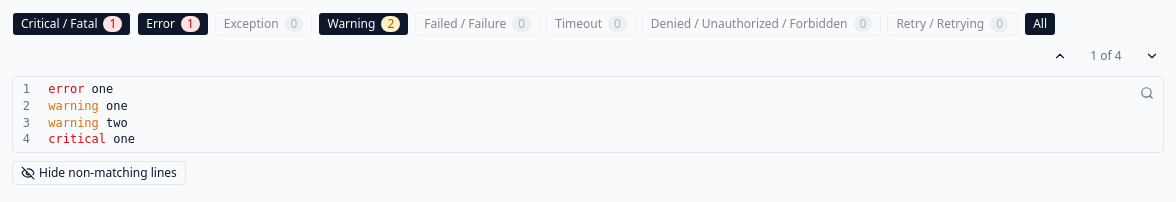
LogViewerWidget › steps through the pooled matches of every toggled-on pattern together, wrapping around
Check: the text "1 of 4" is shown, box 1090,47 -> 1122,64
Step 1. Click the button named "Next match" → (1152, 56), box 1140,44 -> 1164,68
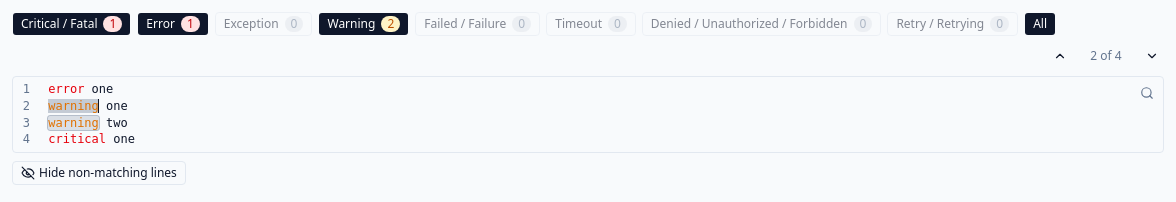
Check: the text "2 of 4" is shown, box 1090,47 -> 1122,64
Step 2. Click the button named "Next match" → (1152, 56), box 1140,44 -> 1164,68
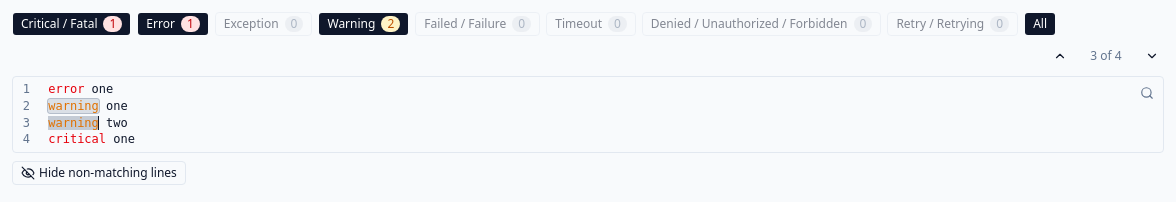
Check: the text "3 of 4" is shown, box 1090,47 -> 1122,64
Step 3. Click the button named "Next match" → (1152, 56), box 1140,44 -> 1164,68
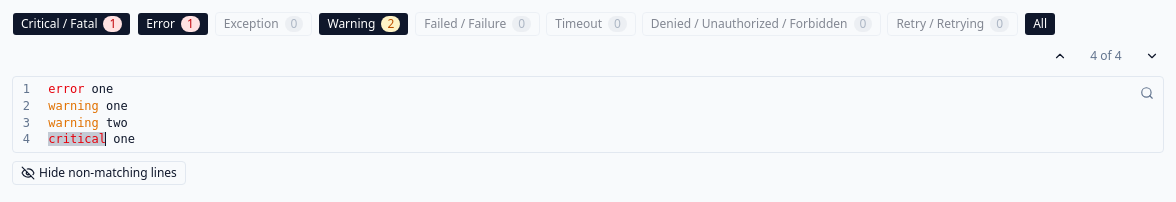
Check: the text "4 of 4" is shown, box 1090,47 -> 1122,64
Note: Wraps back around to the first match past the last one.
Step 4. Click the button named "Next match" → (1152, 56), box 1140,44 -> 1164,68
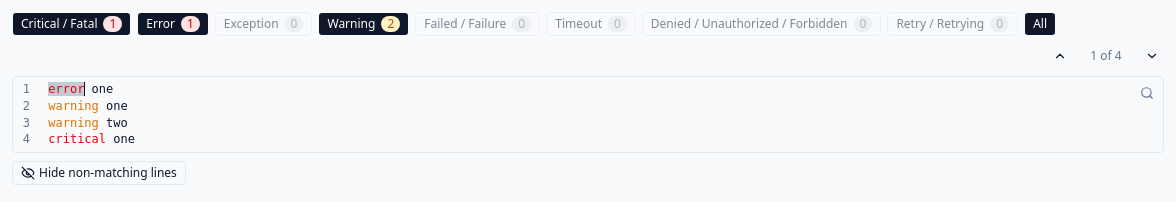
Check: the text "1 of 4" is shown, box 1090,47 -> 1122,64
Step 5. Click the button named "Previous match" → (1060, 56), box 1048,44 -> 1072,68
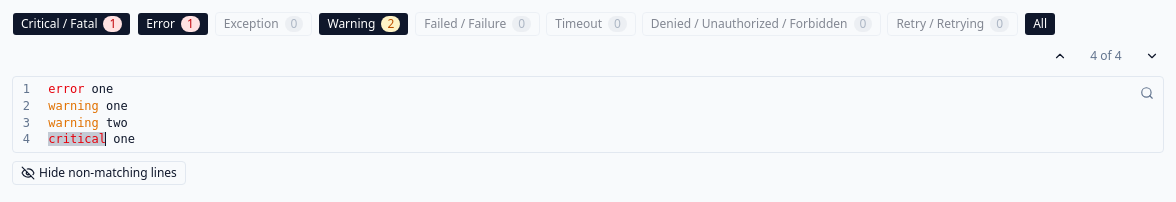
Check: the text "4 of 4" is shown, box 1090,47 -> 1122,64
